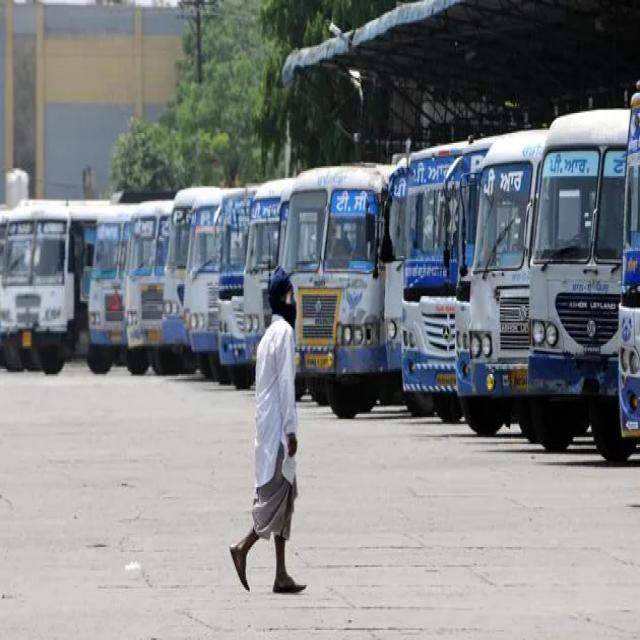BUS: (399, 158, 637, 427), (279, 178, 392, 400), (93, 200, 136, 339)
